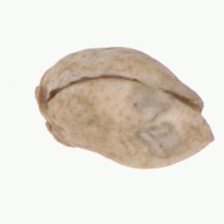L1: (166, 86, 215, 140), (33, 86, 62, 144)
L2: (35, 46, 214, 169)
